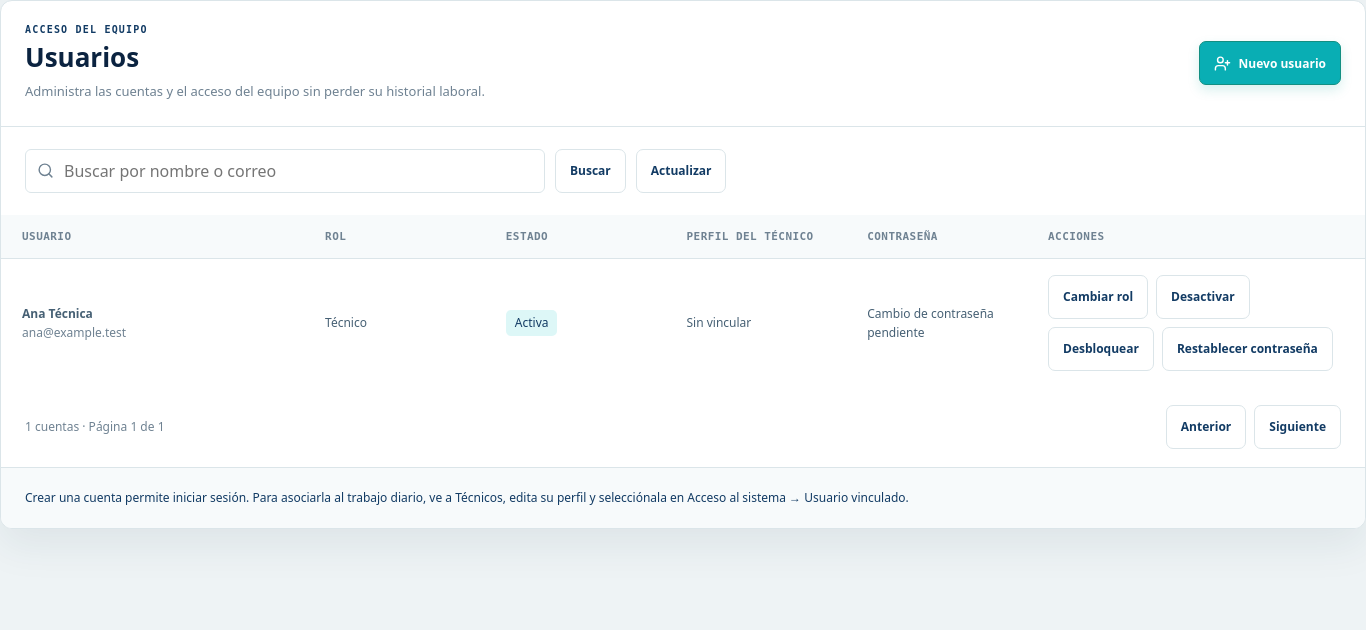
Test: usuarios en configuración › conserva el editor y el rol original cuando el servidor rechaza el cambio
Click the button "Cambiar rol". click: (1098, 297)
box: x1=1048 y1=275 x2=1148 y2=319
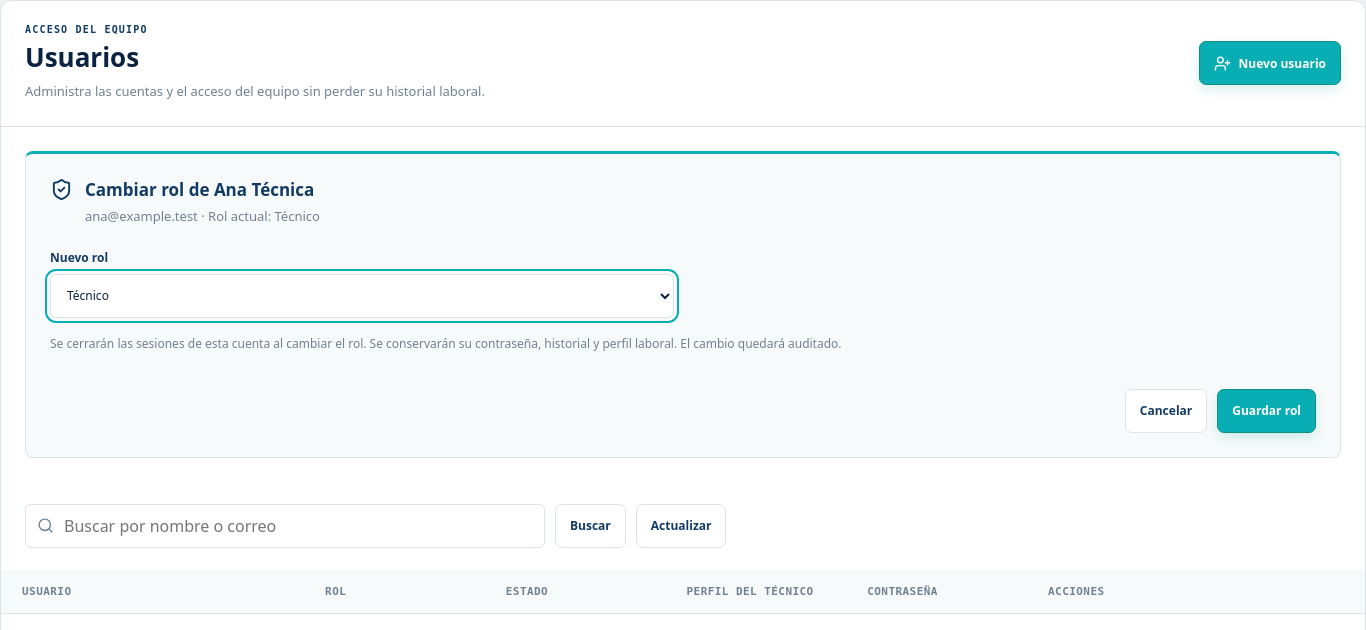
Select "Supervisor" in the dropdown labelled "Nuevo rol". click: (362, 296)
box: x1=50 y1=274 x2=674 y2=318
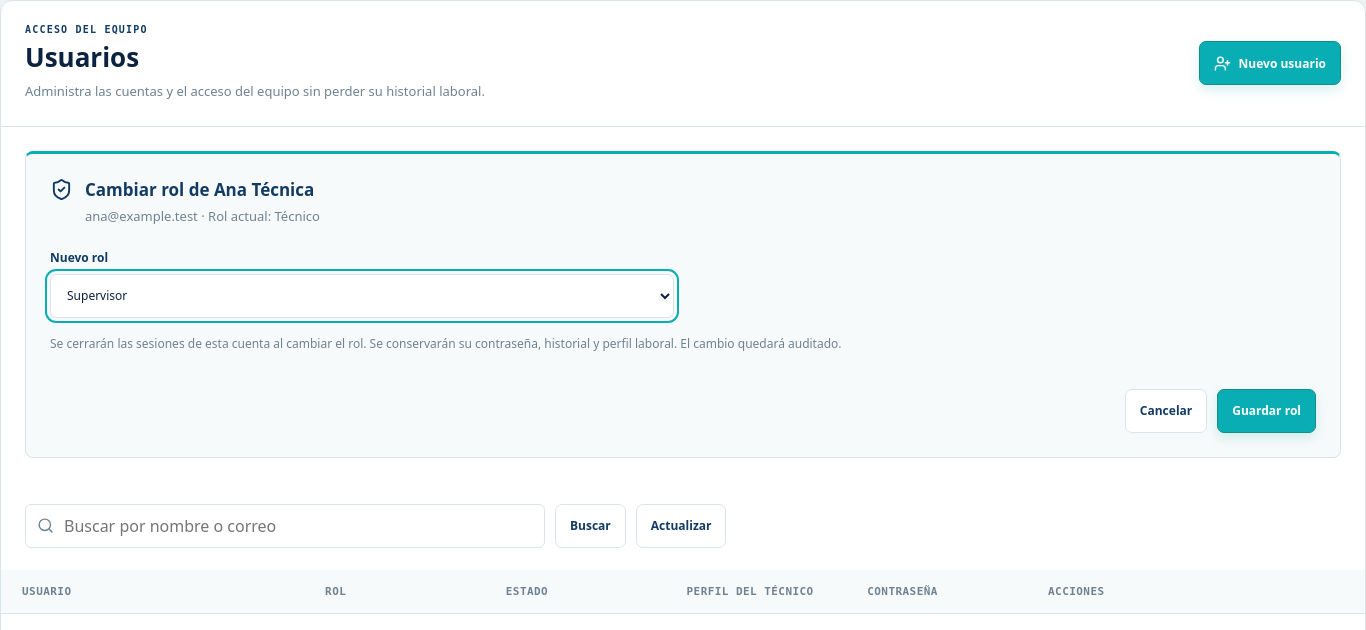
Click the button "Guardar rol". click: (1267, 411)
box: x1=1217 y1=389 x2=1316 y2=433
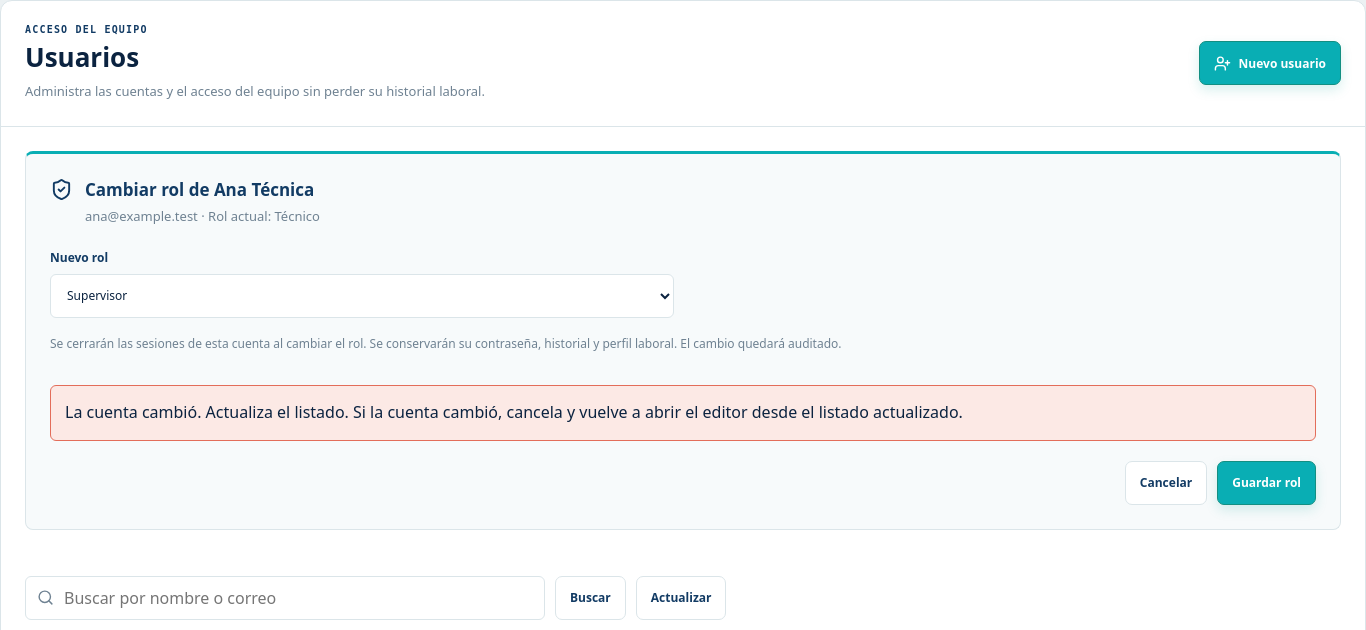
Check: the button "Guardar rol" is enabled, box x1=1217 y1=461 x2=1316 y2=505
Check: the message shows "La cuenta cambió", box x1=65 y1=401 x2=345 y2=423
